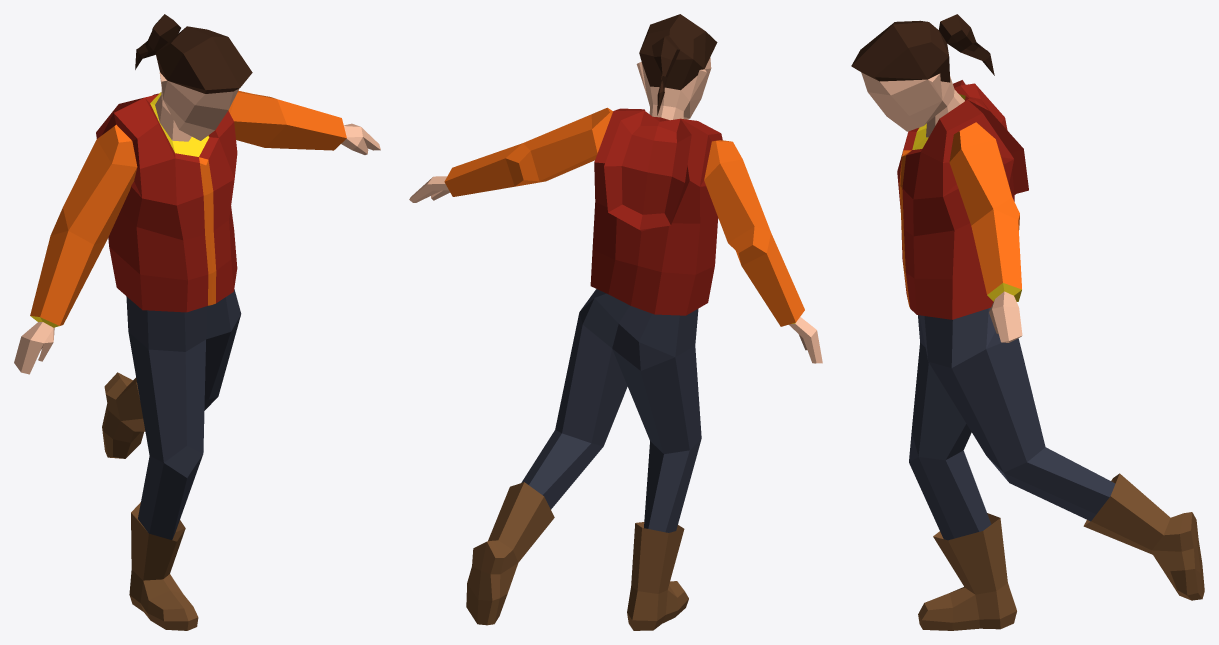
The model's file is AutumnGirl.002.glb.
The picture shows the model from 3 angles, left to right: view 1: azimuth 30°, elevation 25°; view 2: azimuth 150°, elevation 25°; view 3: azimuth 270°, elevation 25°; orthographic projection. The views are drawn at different scales.
Parts seen in each view (by area): view 1: AutumnGirl.002; view 2: AutumnGirl.002; view 3: AutumnGirl.002.
Boxes of the visible parts, <box> form: AutumnGirl.002: <box>14,14,380,630</box>; AutumnGirl.002: <box>409,14,822,630</box>; AutumnGirl.002: <box>851,14,1204,630</box>.
Size of the model in its own units: 1.18 by 1.72 by 0.9058.
1 material, 1 textured.
